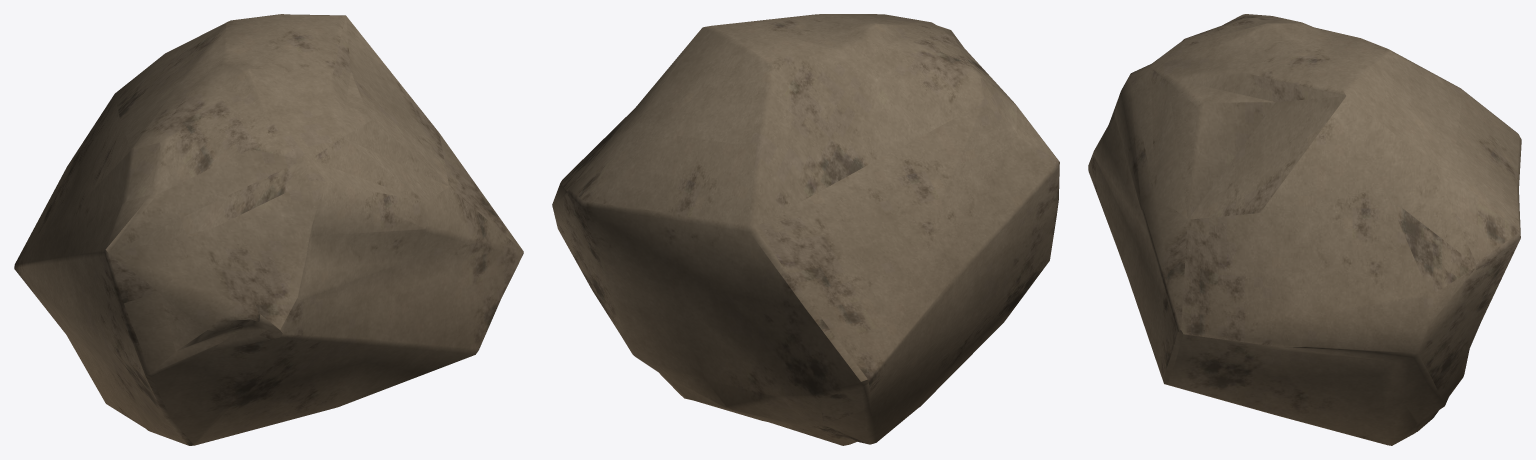
The model's file is prop_boulder3.glb.
3 renders of one model, left to right at view 1: azimuth 30°, elevation 25°; view 2: azimuth 150°, elevation 25°; view 3: azimuth 270°, elevation 25°, orthographic. The views are drawn at different scales.
Parts seen in each view (by area): view 1: BoulderMesh; view 2: BoulderMesh; view 3: BoulderMesh.
Boxes of the visible parts, box(x1,y1,x2,y2) form: BoulderMesh: box(14, 14, 523, 445); BoulderMesh: box(552, 14, 1059, 445); BoulderMesh: box(1088, 14, 1521, 445).
Size of the model in its own units: 1.65 by 1.45 by 1.51.
Materials: 1 (1 with a texture image).
